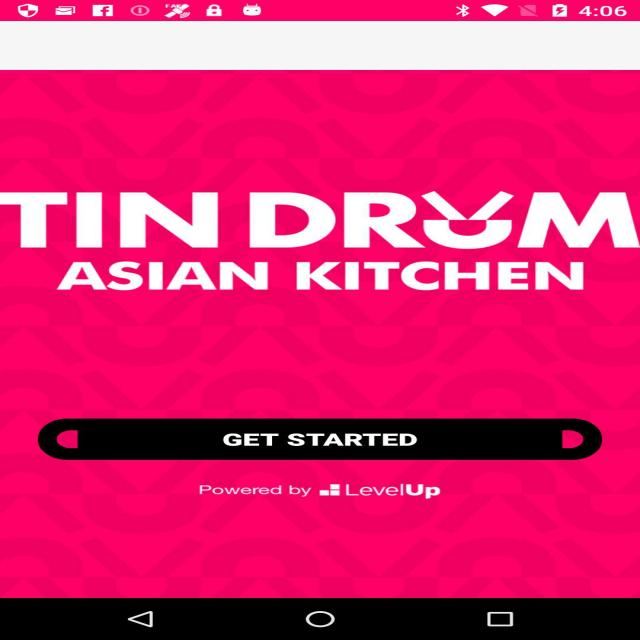button: (25, 396, 640, 482)
text: (25, 162, 640, 307)
